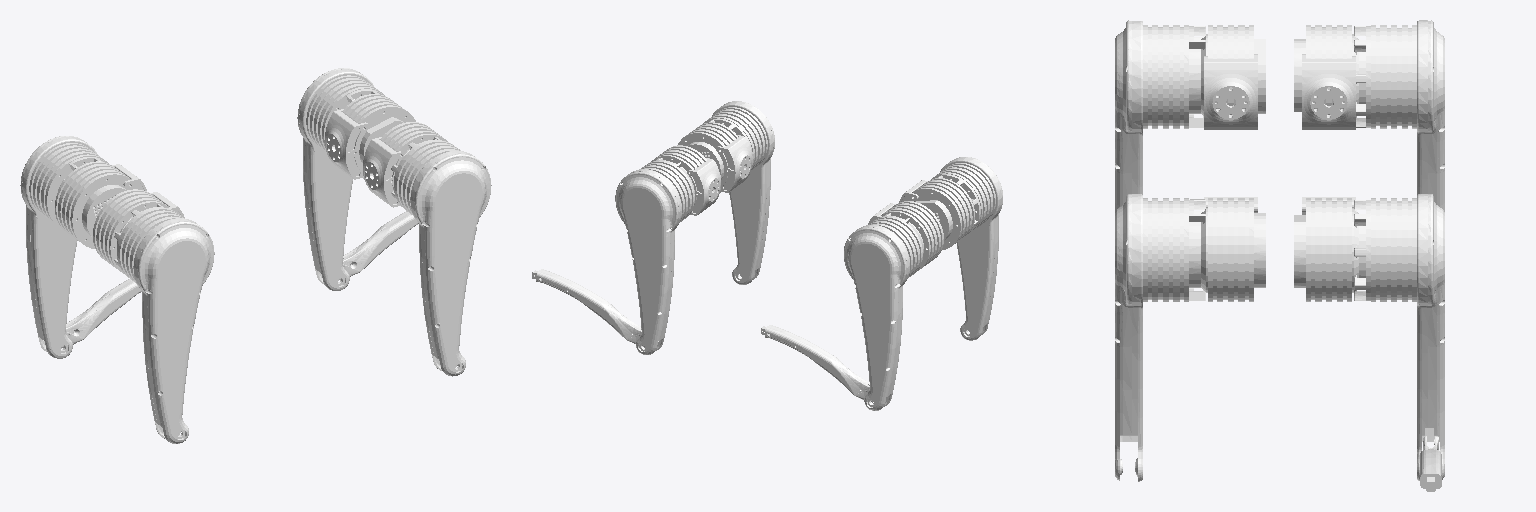
--- Render facts (derived) ---
3 views of the same robot in one strip: view 1: azimuth 30°, elevation 25°; view 2: azimuth 150°, elevation 25°; view 3: azimuth 270°, elevation 25° (orthographic).
Robot: go2_description — 29 links, 28 joints (12 revolute, 16 fixed); root link base; default pose: all joints at 0 but 4 set to mid-range because 0 is outside their limits (FL_calf_joint = -1.78, FR_calf_joint = -1.78, RL_calf_joint = -1.78, RR_calf_joint = -1.78).
Links seen in each view (by area): view 1: RR_thigh, FR_thigh, RL_thigh, FL_thigh, FL_hip, RL_hip, FR_hip, RR_hip, RL_calf, FL_calf; view 2: FL_thigh, RL_thigh, RR_thigh, FR_thigh, FR_hip, RR_hip, FL_hip, FL_calf, RL_calf, RL_hip; view 3: FR_thigh, FL_thigh, RL_thigh, RR_thigh, RR_hip, FR_hip, RL_hip, FL_hip, FL_calf.
Link boxes in pixels (<box>): RR_thigh: <box>114,204,214,443</box>; FR_thigh: <box>391,137,491,376</box>; RL_thigh: <box>20,136,108,358</box>; FL_thigh: <box>297,68,384,290</box>; FL_hip: <box>325,94,415,179</box>; RL_hip: <box>55,161,146,248</box>; FR_hip: <box>363,122,447,207</box>; RR_hip: <box>93,189,184,273</box>; RL_calf: <box>43,279,141,347</box>; FL_calf: <box>338,211,418,279</box>; FL_thigh: <box>615,158,694,354</box>; RL_thigh: <box>844,213,922,410</box>; RR_thigh: <box>931,157,1002,340</box>; FR_thigh: <box>703,101,774,284</box>; FR_hip: <box>678,122,752,192</box>; RR_hip: <box>899,178,974,249</box>; FL_hip: <box>651,145,720,215</box>; FL_calf: <box>532,269,658,346</box>; RL_calf: <box>761,325,886,401</box>; RL_hip: <box>868,201,943,270</box>; FR_thigh: <box>1115,194,1205,481</box>; FL_thigh: <box>1354,194,1444,480</box>; RL_thigh: <box>1354,20,1444,211</box>; RR_thigh: <box>1115,20,1205,211</box>; RR_hip: <box>1201,25,1265,129</box>; FR_hip: <box>1201,197,1265,301</box>; RL_hip: <box>1294,25,1358,129</box>; FL_hip: <box>1294,197,1358,301</box>; FL_calf: <box>1420,436,1441,491</box>.
Size in the robot's own frame: 0.6314 by 0.3111 by 0.292 metres.
Meshes: 7 distinct files referenced, 10 mesh visuals loaded (4 Collada DAE); not drawn: 7 (reference not matched to a file when rendering).

URDF robot description (go2_description):
<?xml version="1.0" encoding="utf-8"?>
<!-- This URDF was automatically created by SolidWorks to URDF Exporter! Originally created by
Stephen Brawner ([email redacted]) 
     Commit Version: 1.6.0-4-g7f85cfe  Build Version: 1.6.7995.38578
     For more information, please see http://wiki.ros.org/sw_urdf_exporter -->
<robot
  name="go2_description">
  <link
    name="base">
    <inertial>
      <origin
        xyz="0.021112 0 -0.005366"
        rpy="0 0 0" />
      <mass
        value="6.921" />
      <inertia
        ixx="0.02448"
        ixy="0.00012166"
        ixz="0.0014849"
        iyy="0.098077"
        iyz="-3.12E-05"
        izz="0.107" />
    </inertial>
    <visual>
      <origin
        xyz="0 0 0"
        rpy="0 0 0" />
      <geometry>
        <mesh
          filename="../dae/base.dae" />
      </geometry>
      <material
        name="">
        <color
          rgba="1 1 1 1" />
      </material>
    </visual>
    <collision>
      <origin rpy="0 0 0" xyz="0 0 0" />
      <geometry>
        <box size="0.3762 0.0935 0.114" />
      </geometry>
    </collision>
  </link>
  <link
    name="Head_upper">
    <inertial>
      <origin
        xyz="0 0 0"
        rpy="0 0 0" />
      <mass
        value="0.001" />
      <inertia
        ixx="9.6e-06"
        ixy="0"
        ixz="0"
        iyy="9.6e-06"
        iyz="0"
        izz="9.6e-06" />
    </inertial>
    <collision>
      <origin
        xyz="0 0 0"
        rpy="0 0 0" />
      <geometry>
        <cylinder radius="0.05" length="0.09" />
      </geometry>
    </collision>
  </link>
  <joint
    name="Head_upper_joint"
    type="fixed" dont_collapse="true">
    <origin
      xyz="0.285 0 0.01"
      rpy="0 0 0" />
    <parent
      link="base" />
    <child
      link="Head_upper" />
    <axis
      xyz="0 0 0" />
  </joint>
  <link
    name="Head_lower">
    <inertial>
      <origin
        xyz="0 0 0"
        rpy="0 0 0" />
      <mass
        value="0.001" />
      <inertia
        ixx="9.6e-06"
        ixy="0"
        ixz="0"
        iyy="9.6e-06"
        iyz="0"
        izz="9.6e-06" />
    </inertial>
    <collision>
      <origin
        xyz="0 0 0"
        rpy="0 0 0" />
      <geometry>
        <sphere radius="0.047" />
      </geometry>
    </collision>
  </link>
  <joint
    name="Head_lower_joint"
    type="fixed" dont_collapse="true">
    <origin
      xyz="0.008 0 -0.07"
      rpy="0 0 0" />
    <parent
      link="Head_upper" />
    <child
      link="Head_lower" />
    <axis
      xyz="0 0 0" />
  </joint>
  <link
    name="FL_hip">
    <inertial>
      <origin
        xyz="-0.0054 0.00194 -0.000105"
        rpy="0 0 0" />
      <mass
        value="0.678" />
      <inertia
        ixx="0.00048"
        ixy="-3.01E-06"
        ixz="1.11E-06"
        iyy="0.000884"
        iyz="-1.42E-06"
        izz="0.000596" />
    </inertial>
    <visual>
      <origin
        xyz="0 0 0"
        rpy="0 0 0" />
      <geometry>
        <mesh
          filename="../dae/hip.dae" />
      </geometry>
      <material
        name="">
        <color
          rgba="1 1 1 1" />
      </material>
    </visual>
    <collision>
      <origin rpy="1.5707963267948966 0 0" xyz="0 0.08 0" />
      <geometry>
        <cylinder length="0.04" radius="0.046" />
      </geometry>
    </collision>
  </link>
  <joint
    name="FL_hip_joint"
    type="revolute">
    <origin
      xyz="0.1934 0.0465 0"
      rpy="0 0 0" />
    <parent
      link="base" />
    <child
      link="FL_hip" />
    <axis
      xyz="1 0 0" />
    <limit
      lower="-1.0472"
      upper="1.0472"
      effort="23.7"
      velocity="30.1" />
  </joint>
  <link
    name="FL_thigh">
    <inertial>
      <origin
        xyz="-0.00374 -0.0223 -0.0327"
        rpy="0 0 0" />
      <mass
        value="1.152" />
      <inertia
        ixx="0.00584"
        ixy="8.72E-05"
        ixz="-0.000289"
        iyy="0.0058"
        iyz="0.000808"
        izz="0.00103" />
    </inertial>
    <visual>
      <origin
        xyz="0 0 0"
        rpy="0 0 0" />
      <geometry>
        <mesh
          filename="../dae/thigh.dae" />
      </geometry>
      <material
        name="">
        <color
          rgba="1 1 1 1" />
      </material>
    </visual>
    <collision>
      <origin rpy="0 1.5707963267948966 0" xyz="0 0 -0.1065" />
      <geometry>
        <box size="0.11 0.0245 0.034" />
      </geometry>
    </collision>
  </link>
  <joint
    name="FL_thigh_joint"
    type="revolute">
    <origin
      xyz="0 0.0955 0"
      rpy="0 0 0" />
    <parent
      link="FL_hip" />
    <child
      link="FL_thigh" />
    <axis
      xyz="0 1 0" />
    <limit
      lower="-1.5708"
      upper="3.4907"
      effort="23.7"
      velocity="30.1" />
  </joint>
  <link
    name="FL_calf">
    <inertial>
      <origin
        xyz="0.00548 -0.000975 -0.115"
        rpy="0 0 0" />
      <mass
        value="0.154" />
      <inertia
        ixx="0.00108"
        ixy="3.4E-07"
        ixz="1.72E-05"
        iyy="0.0011"
        iyz="8.28E-06"
        izz="3.29E-05" />
    </inertial>
    <visual>
      <origin
        xyz="0 0 0"
        rpy="0 0 0" />
      <geometry>
        <mesh
          filename="../dae/calf.dae" />
      </geometry>
      <material
        name="">
        <color
          rgba="1 1 1 1" />
      </material>
    </visual>
    <collision>
      <origin rpy="0 -0.21 0" xyz="0.008 0 -0.06" />
      <geometry>
        <cylinder length="0.12" radius="0.012" />
      </geometry>
    </collision>
  </link>
  <joint
    name="FL_calf_joint"
    type="revolute">
    <origin
      xyz="0 0 -0.213"
      rpy="0 0 0" />
    <parent
      link="FL_thigh" />
    <child
      link="FL_calf" />
    <axis
      xyz="0 1 0" />
    <limit
      lower="-2.7227"
      upper="-0.83776"
      effort="35.55"
      velocity="20.07" />
  </joint>
  <link
    name="FL_calflower">
    <collision>
      <origin rpy="0 0 0" xyz="0 0 0" />
      <geometry>
        <cylinder length="0.065" radius="0.011" />
      </geometry>
    </collision>
  </link>
  <joint
    name="FL_calflower_joint"
    type="fixed">
    <origin
      xyz="0.020 0 -0.148"
      rpy="0 0.05 0" />
    <parent
      link="FL_calf" />
    <child
      link="FL_calflower" />
    <axis
      xyz="0 0 0" />
  </joint>
  <link
    name="FL_calflower1">
    <collision>
      <origin rpy="0 0 0" xyz="0 0 0" />
      <geometry>
        <cylinder length="0.03" radius="0.0155" />
      </geometry>
    </collision>
  </link>
  <joint
    name="FL_calflower1_joint"
    type="fixed">
    <origin
      xyz="-0.01 0 -0.04"
      rpy="0 0.48 0" />
    <parent
      link="FL_calflower" />
    <child
      link="FL_calflower1" />
    <axis
      xyz="0 0 0" />
  </joint>
  <link
    name="FL_foot">
    <inertial>
      <origin
        xyz="0 0 0"
        rpy="0 0 0" />
      <mass
        value="0.04" />
      <inertia
        ixx="9.6e-06"
        ixy="0"
        ixz="0"
        iyy="9.6e-06"
        iyz="0"
        izz="9.6e-06" />
    </inertial>
    <visual>
      <origin
        xyz="0 0 0"
        rpy="0 0 0" />
      <geometry>
        <mesh
          filename="../dae/foot.dae" />go2
      </geometry>
      <material
        name="">
        <color
          rgba="1 1 1 1" />
      </material>
    </visual>
    <collision>
      <origin rpy="0 0 0" xyz="-0.002 0 0" />
      <geometry>
        <sphere radius="0.022" />
      </geometry>
    </collision>
  </link>
  <joint
    name="FL_foot_joint"
    type="fixed" dont_collapse="true">
    <origin
      xyz="0 0 -0.213"
      rpy="0 0 0" />
    <parent
      link="FL_calf" />
    <child
      link="FL_foot" />
    <axis
      xyz="0 0 0" />
  </joint>
  <link
    name="FR_hip">
    <inertial>
      <origin
        xyz="-0.0054 -0.00194 -0.000105"
        rpy="0 0 0" />
      <mass
        value="0.678" />
      <inertia
        ixx="0.00048"
        ixy="3.01E-06"
        ixz="1.11E-06"
        iyy="0.000884"
        iyz="1.42E-06"
        izz="0.000596" />
    </inertial>
    <visual>
      <origin
        xyz="0 0 0"
        rpy="3.1415 0 0" />
      <geometry>
        <mesh
          filename="../dae/hip.dae" />
      </geometry>
      <material
        name="">
        <color
          rgba="1 1 1 1" />
      </material>
    </visual>
    <collision>
      <origin rpy="1.5707963267948966 0 0" xyz="0 -0.08 0" />
      <geometry>
        <cylinder length="0.04" radius="0.046" />
      </geometry>
    </collision>
  </link>
  <joint
    name="FR_hip_joint"
    type="revolute">
    <origin
      xyz="0.1934 -0.0465 0"
      rpy="0 0 0" />
    <parent
      link="base" />
    <child
      link="FR_hip" />
    <axis
      xyz="1 0 0" />
    <limit
      lower="-1.0472"
      upper="1.0472"
      effort="23.7"
      velocity="30.1" />
  </joint>
  <link
    name="FR_thigh">
    <inertial>
      <origin
        xyz="-0.00374 0.0223 -0.0327"
        rpy="0 0 0" />
      <mass
        value="1.152" />
      <inertia
        ixx="0.00584"
        ixy="-8.72E-05"
        ixz="-0.000289"
        iyy="0.0058"
        iyz="-0.000808"
        izz="0.00103" />
    </inertial>
    <visual>
      <origin
        xyz="0 0 0"
        rpy="0 0 0" />
      <geometry>
        <mesh
          filename="../dae/thigh_mirror.dae" />
      </geometry>
      <material
        name="">
        <color
          rgba="1 1 1 1" />
      </material>
    </visual>
    <collision>
      <origin rpy="0 1.5707963267948966 0" xyz="0 0 -0.1065" />
      <geometry>
        <box size="0.11 0.0245 0.034" />
      </geometry>
    </collision>
  </link>
  <joint
    name="FR_thigh_joint"
    type="revolute">
    <origin
      xyz="0 -0.0955 0"
      rpy="0 0 0" />
    <parent
      link="FR_hip" />
    <child
      link="FR_thigh" />
    <axis
      xyz="0 1 0" />
    <limit
      lower="-1.5708"
      upper="3.4907"
      effort="23.7"
      velocity="30.1" />
  </joint>
  <link
    name="FR_calf">
    <inertial>
      <origin
        xyz="0.00548 0.000975 -0.115"
        rpy="0 0 0" />
      <mass
        value="0.154" />
      <inertia
        ixx="0.00108"
        ixy="-3.4E-07"
        ixz="1.72E-05"
        iyy="0.0011"
        iyz="-8.28E-06"
        izz="3.29E-05" />
    </inertial>
    <visual>
      <origin
        xyz="0 0 0"
        rpy="0 0 0" />
      <geometry>
        <mesh
          filename="../dae/calf_mirror.dae" />
      </geometry>
      <material
        name="">
        <color
          rgba="1 1 1 1" />
      </material>
    </visual>
    <collision>
      <origin rpy="0 -0.2 0" xyz="0.01 0 -0.06" />
      <geometry>
        <cylinder length="0.12" radius="0.013" />
      </geometry>
    </collision>
  </link>
  <joint
    name="FR_calf_joint"
    type="revolute">
    <origin
      xyz="0 0 -0.213"
      rpy="0 0 0" />
    <parent
      link="FR_thigh" />
    <child
      link="FR_calf" />
    <axis
      xyz="0 1 0" />
    <limit
      lower="-2.7227"
      upper="-0.83776"
      effort="35.55"
      velocity="20.07" />
  </joint>
  <link
    name="FR_calflower">
    <collision>
      <origin rpy="0 0 0" xyz="0 0 0" />
      <geometry>
        <cylinder length="0.065" radius="0.011" />
      </geometry>
    </collision>
  </link>
  <joint
    name="FR_calflower_joint"
    type="fixed">
    <origin
      xyz="0.020 0 -0.148"
      rpy="0 0.05 0" />
    <parent
      link="FR_calf" />
    <child
      link="FR_calflower" />
    <axis
      xyz="0 0 0" />
  </joint>
  <link
    name="FR_calflower1">
    <collision>
      <origin rpy="0 0 0" xyz="0 0 0" />
      <geometry>
        <cylinder length="0.03" radius="0.0155" />
      </geometry>
    </collision>
  </link>
  <joint
    name="FR_calflower1_joint"
    type="fixed">
    <origin
      xyz="-0.01 0 -0.04"
      rpy="0 0.48 0" />
    <parent
      link="FR_calflower" />
    <child
      link="FR_calflower1" />
    <axis
      xyz="0 0 0" />
  </joint>
  <link
    name="FR_foot">
    <inertial>
      <origin
        xyz="0 0 0"
        rpy="0 0 0" />
      <mass
        value="0.04" />
      <inertia
        ixx="9.6e-06"
        ixy="0"
        ixz="0"
        iyy="9.6e-06"
        iyz="0"
        izz="9.6e-06" />
    </inertial>
    <visual>
      <origin
        xyz="0 0 0"
        rpy="0 0 0" />
      <geometry>
        <mesh
          filename="../dae/foot.dae" />
      </geometry>
      <material
        name="">
        <color
          rgba="1 1 1 1" />
      </material>
    </visual>
    <collision>
      <origin rpy="0 0 0" xyz="-0.002 0 0" />
      <geometry>
        <sphere radius="0.022" />
      </geometry>
    </collision>
  </link>
  <joint
    name="FR_foot_joint"
    type="fixed" dont_collapse="true">
    <origin
      xyz="0 0 -0.213"
      rpy="0 0 0" />
    <parent
      link="FR_calf" />
    <child
      link="FR_foot" />
    <axis
      xyz="0 0 0" />
  </joint>
  <link
    name="RL_hip">
    <inertial>
      <origin
        xyz="0.0054 0.00194 -0.000105"
        rpy="0 0 0" />
      <mass
        value="0.678" />
      <inertia
        ixx="0.00048"
        ixy="3.01E-06"
        ixz="-1.11E-06"
        iyy="0.000884"
        iyz="-1.42E-06"
        izz="0.000596" />
    </inertial>
    <visual>
      <origin
        xyz="0 0 0"
        rpy="0 3.1415 0" />
      <geometry>
        <mesh
          filename="../dae/hip.dae" />
      </geometry>
      <material
        name="">
        <color
          rgba="1 1 1 1" />
      </material>
    </visual>
    <collision>
      <origin rpy="1.5707963267948966 0 0" xyz="0 0.08 0" />
      <geometry>
        <cylinder length="0.04" radius="0.046" />
      </geometry>
    </collision>
  </link>
  <joint
    name="RL_hip_joint"
    type="revolute">
    <origin
      xyz="-0.1934 0.0465 0"
      rpy="0 0 0" />
    <parent
      link="base" />
    <child
      link="RL_hip" />
    <axis
      xyz="1 0 0" />
    <limit
      lower="-1.0472"
      upper="1.0472"
      effort="23.7"
      velocity="30.1" />
  </joint>
  <link
    name="RL_thigh">
    <inertial>
      <origin
        xyz="-0.00374 -0.0223 -0.0327"
        rpy="0 0 0" />
      <mass
        value="1.152" />
      <inertia
        ixx="0.00584"
        ixy="8.72E-05"
        ixz="-0.000289"
        iyy="0.0058"
        iyz="0.000808"
        izz="0.00103" />
    </inertial>
    <visual>
      <origin
        xyz="0 0 0"
        rpy="0 0 0" />
      <geometry>
        <mesh
          filename="../dae/thigh.dae" />
      </geometry>
      <material
        name="">
        <color
          rgba="1 1 1 1" />
      </material>
    </visual>
    <collision>
      <origin rpy="0 1.5707963267948966 0" xyz="0 0 -0.1065" />
      <geometry>
        <box size="0.11 0.0245 0.034" />
      </geometry>
    </collision>
  </link>
  <joint
    name="RL_thigh_joint"
    type="revolute">
    <origin
      xyz="0 0.0955 0"
      rpy="0 0 0" />
    <parent
      link="RL_hip" />
    <child
      link="RL_thigh" />
    <axis
      xyz="0 1 0" />
    <limit
      lower="-0.5236"
      upper="4.5379"
      effort="23.7"
      velocity="30.1" />
  </joint>
  <link
    name="RL_calf">
    <inertial>
      <origin
        xyz="0.00548 -0.000975 -0.115"
        rpy="0 0 0" />
      <mass
        value="0.154" />
      <inertia
        ixx="0.00108"
        ixy="3.4E-07"
        ixz="1.72E-05"
        iyy="0.0011"
        iyz="8.28E-06"
        izz="3.29E-05" />
    </inertial>
    <visual>
      <origin
        xyz="0 0 0"
        rpy="0 0 0" />
      <geometry>
        <mesh
          filename="../dae/calf.dae" />
      </geometry>
      <material
        name="">
        <color
          rgba="1 1 1 1" />
      </material>
    </visual>
    <collision>
      <origin rpy="0 -0.2 0" xyz="0.01 0 -0.06" />
      <geometry>
        <cylinder length="0.12" radius="0.013" />
      </geometry>
    </collision>
  </link>
  <joint
    name="RL_calf_joint"
    type="revolute">
    <origin
      xyz="0 0 -0.213"
      rpy="0 0 0" />
    <parent
      link="RL_thigh" />
    <child
      link="RL_calf" />
    <axis
      xyz="0 1 0" />
    <limit
      lower="-2.7227"
      upper="-0.83776"
      effort="35.55"
      velocity="20.07" />
  </joint>
  <link
    name="RL_calflower">
    <collision>
      <origin rpy="0 0 0" xyz="0 0 0" />
      <geometry>
        <cylinder length="0.065" radius="0.011" />
      </geometry>
    </collision>
  </link>
  <joint
    name="RL_calflower_joint"
    type="fixed">
    <origin
      xyz="0.020 0 -0.148"
      rpy="0 0.05 0" />
    <parent
      link="RL_calf" />
    <child
      link="RL_calflower" />
    <axis
      xyz="0 0 0" />
  </joint>
  <link
    name="RL_calflower1">
    <collision>
      <origin rpy="0 0 0" xyz="0 0 0" />
      <geometry>
        <cylinder length="0.03" radius="0.0155" />
      </geometry>
    </collision>
  </link>
  <joint
    name="RL_calflower1_joint"
    type="fixed">
    <origin
      xyz="-0.01 0 -0.04"
      rpy="0 0.48 0" />
    <parent
      link="RL_calflower" />
    <child
      link="RL_calflower1" />
    <axis
      xyz="0 0 0" />
  </joint>
  <link
    name="RL_foot">
    <inertial>
      <origin
        xyz="0 0 0"
        rpy="0 0 0" />
      <mass
        value="0.04" />
      <inertia
        ixx="9.6e-06"
        ixy="0"
        ixz="0"
        iyy="9.6e-06"
        iyz="0"
        izz="9.6e-06" />
    </inertial>
    <visual>
      <origin
        xyz="0 0 0"
        rpy="0 0 0" />
      <geometry>
        <mesh
          filename="../dae/foot.dae" />
      </geometry>
      <material
        name="">
        <color
          rgba="1 1 1 1" />
      </material>
    </visual>
    <collision>
      <origin rpy="0 0 0" xyz="-0.002 0 0" />
      <geometry>
        <sphere radius="0.022" />
      </geometry>
    </collision>
  </link>
  <joint
    name="RL_foot_joint"
    type="fixed" dont_collapse="true">
    <origin
      xyz="0 0 -0.213"
      rpy="0 0 0" />
    <parent
      link="RL_calf" />
    <child
      link="RL_foot" />
    <axis
      xyz="0 0 0" />
  </joint>
  <link
    name="RR_hip">
    <inertial>
      <origin
        xyz="0.0054 -0.00194 -0.000105"
        rpy="0 0 0" />
      <mass
        value="0.678" />
      <inertia
        ixx="0.00048"
        ixy="-3.01E-06"
        ixz="-1.11E-06"
        iyy="0.000884"
        iyz="1.42E-06"
        izz="0.000596" />
    </inertial>
    <visual>
      <origin
        xyz="0 0 0"
        rpy="3.1415 3.1415 0" />
      <geometry>
        <mesh
          filename="../dae/hip.dae" />
      </geometry>
      <material
        name="">
        <color
          rgba="1 1 1 1" />
      </material>
    </visual>
    <collision>
      <origin rpy="1.5707963267948966 0 0" xyz="0 -0.08 0" />
      <geometry>
        <cylinder length="0.04" radius="0.046" />
      </geometry>
    </collision>
  </link>
  <joint
    name="RR_hip_joint"
    type="revolute">
    <origin
      xyz="-0.1934 -0.0465 0"
      rpy="0 0 0" />
    <parent
      link="base" />
    <child
      link="RR_hip" />
    <axis
      xyz="1 0 0" />
    <limit
      lower="-1.0472"
      upper="1.0472"
      effort="23.7"
      velocity="30.1" />
  </joint>
  <link
    name="RR_thigh">
    <inertial>
      <origin
        xyz="-0.00374 0.0223 -0.0327"
        rpy="0 0 0" />
      <mass
        value="1.152" />
      <inertia
        ixx="0.00584"
        ixy="-8.72E-05"
        ixz="-0.000289"
        iyy="0.0058"
        iyz="-0.000808"
        izz="0.00103" />
    </inertial>
    <visual>
      <origin
        xyz="0 0 0"
        rpy="0 0 0" />
      <geometry>
        <mesh
          filename="../dae/thigh_mirror.dae" />
      </geometry>
      <material
        name="">
        <color
          rgba="1 1 1 1" />
      </material>
    </visual>
    <collision>
      <origin rpy="0 1.5707963267948966 0" xyz="0 0 -0.1065" />
      <geometry>
        <box size="0.11 0.0245 0.034" />
      </geometry>
    </collision>
  </link>
  <joint
    name="RR_thigh_joint"
    type="revolute">
    <origin
      xyz="0 -0.0955 0"
      rpy="0 0 0" />
    <parent
      link="RR_hip" />
    <child
      link="RR_thigh" />
    <axis
      xyz="0 1 0" />
    <limit
      lower="-0.5236"
      upper="4.5379"
      effort="23.7"
      velocity="30.1" />
  </joint>
  <link
    name="RR_calf">
    <inertial>
      <origin
        xyz="0.00548 0.000975 -0.115"
        rpy="0 0 0" />
      <mass
        value="0.154" />
      <inertia
        ixx="0.00108"
        ixy="-3.4E-07"
        ixz="1.72E-05"
        iyy="0.0011"
        iyz="-8.28E-06"
        izz="3.29E-05" />
    </inertial>
    <visual>
      <origin
        xyz="0 0 0"
        rpy="0 0 0" />
      <geometry>
        <mesh
          filename="../dae/calf_mirror.dae" />
      </geometry>
      <material
        name="">
        <color
          rgba="1 1 1 1" />
      </material>
    </visual>
    <collision>
      <origin rpy="0 -0.2 0" xyz="0.01 0 -0.06" />
      <geometry>
        <cylinder length="0.12" radius="0.013" />
      </geometry>
    </collision>
  </link>
  <joint
    name="RR_calf_joint"
    type="revolute">
    <origin
      xyz="0 0 -0.213"
      rpy="0 0 0" />
    <parent
      link="RR_thigh" />
    <child
      link="RR_calf" />
    <axis
      xyz="0 1 0" />
    <limit
      lower="-2.7227"
      upper="-0.83776"
      effort="35.55"
      velocity="20.07" />
  </joint>
  <link
    name="RR_calflower">
    <collision>
      <origin rpy="0 0 0" xyz="0 0 0" />
      <geometry>
        <cylinder length="0.065" radius="0.011" />
      </geometry>
    </collision>
  </link>
  <joint
    name="RR_calflower_joint"
    type="fixed">
    <origin
      xyz="0.020 0 -0.148"
      rpy="0 0.05 0" />
    <parent
      link="RR_calf" />
    <child
      link="RR_calflower" />
    <axis
      xyz="0 0 0" />
  </joint>
  <link
    name="RR_calflower1">
    <collision>
      <origin rpy="0 0 0" xyz="0 0 0" />
      <geometry>
        <cylinder length="0.03" radius="0.0155" />
      </geometry>
    </collision>
  </link>
  <joint
    name="RR_calflower1_joint"
    type="fixed">
    <origin
      xyz="-0.01 0 -0.04"
      rpy="0 0.48 0" />
    <parent
      link="RR_calflower" />
    <child
      link="RR_calflower1" />
    <axis
      xyz="0 0 0" />
  </joint>
  <link
    name="RR_foot">
    <inertial>
      <origin
        xyz="0 0 0"
        rpy="0 0 0" />
      <mass
        value="0.04" />
      <inertia
        ixx="9.6e-06"
        ixy="0"
        ixz="0"
        iyy="9.6e-06"
        iyz="0"
        izz="9.6e-06" />
    </inertial>
    <visual>
      <origin
        xyz="0 0 0"
        rpy="0 0 0" />
      <geometry>
        <mesh
          filename="../dae/foot.dae" />
      </geometry>
      <material
        name="">
        <color
          rgba="1 1 1 1" />
      </material>
    </visual>
    <collision>
      <origin rpy="0 0 0" xyz="-0.002 0 0" />
      <geometry>
        <sphere radius="0.022" />
      </geometry>
    </collision>
  </link>
  <joint
    name="RR_foot_joint"
    type="fixed" dont_collapse="true">
    <origin
      xyz="0 0 -0.213"
      rpy="0 0 0" />
    <parent
      link="RR_calf" />
    <child
      link="RR_foot" />
    <axis
      xyz="0 0 0" />
  </joint>
  <link
    name="imu">
    <inertial>
      <origin
        xyz="0 0 0"
        rpy="0 0 0" />
      <mass
        value="0" />
      <inertia
        ixx="0"
        ixy="0"
        ixz="0"
        iyy="0"
        iyz="0"
        izz="0" />
    </inertial>
  </link>
  <joint
    name="imu_joint"
    type="fixed">
    <origin
      xyz="-0.02557 0 0.04232"
      rpy="0 0 0" />
    <parent
      link="base" />
    <child
      link="imu" />
    <axis
      xyz="0 0 0" />
  </joint>
  <link
    name="radar">
    <inertial>
      <origin
        xyz="0 0 0"
        rpy="0 0 0" />
      <mass
        value="0" />
      <inertia
        ixx="0"
        ixy="0"
        ixz="0"
        iyy="0"
        iyz="0"
        izz="0" />
    </inertial>
  </link>
  <joint
    name="radar_joint"
    type="fixed">
    <origin
      xyz="0.28945 0 -0.046825"
      rpy="0 2.8782 0" />
    <parent
      link="base" />
    <child
      link="radar" />
    <axis
      xyz="0 0 0" />
  </joint>
</robot>
